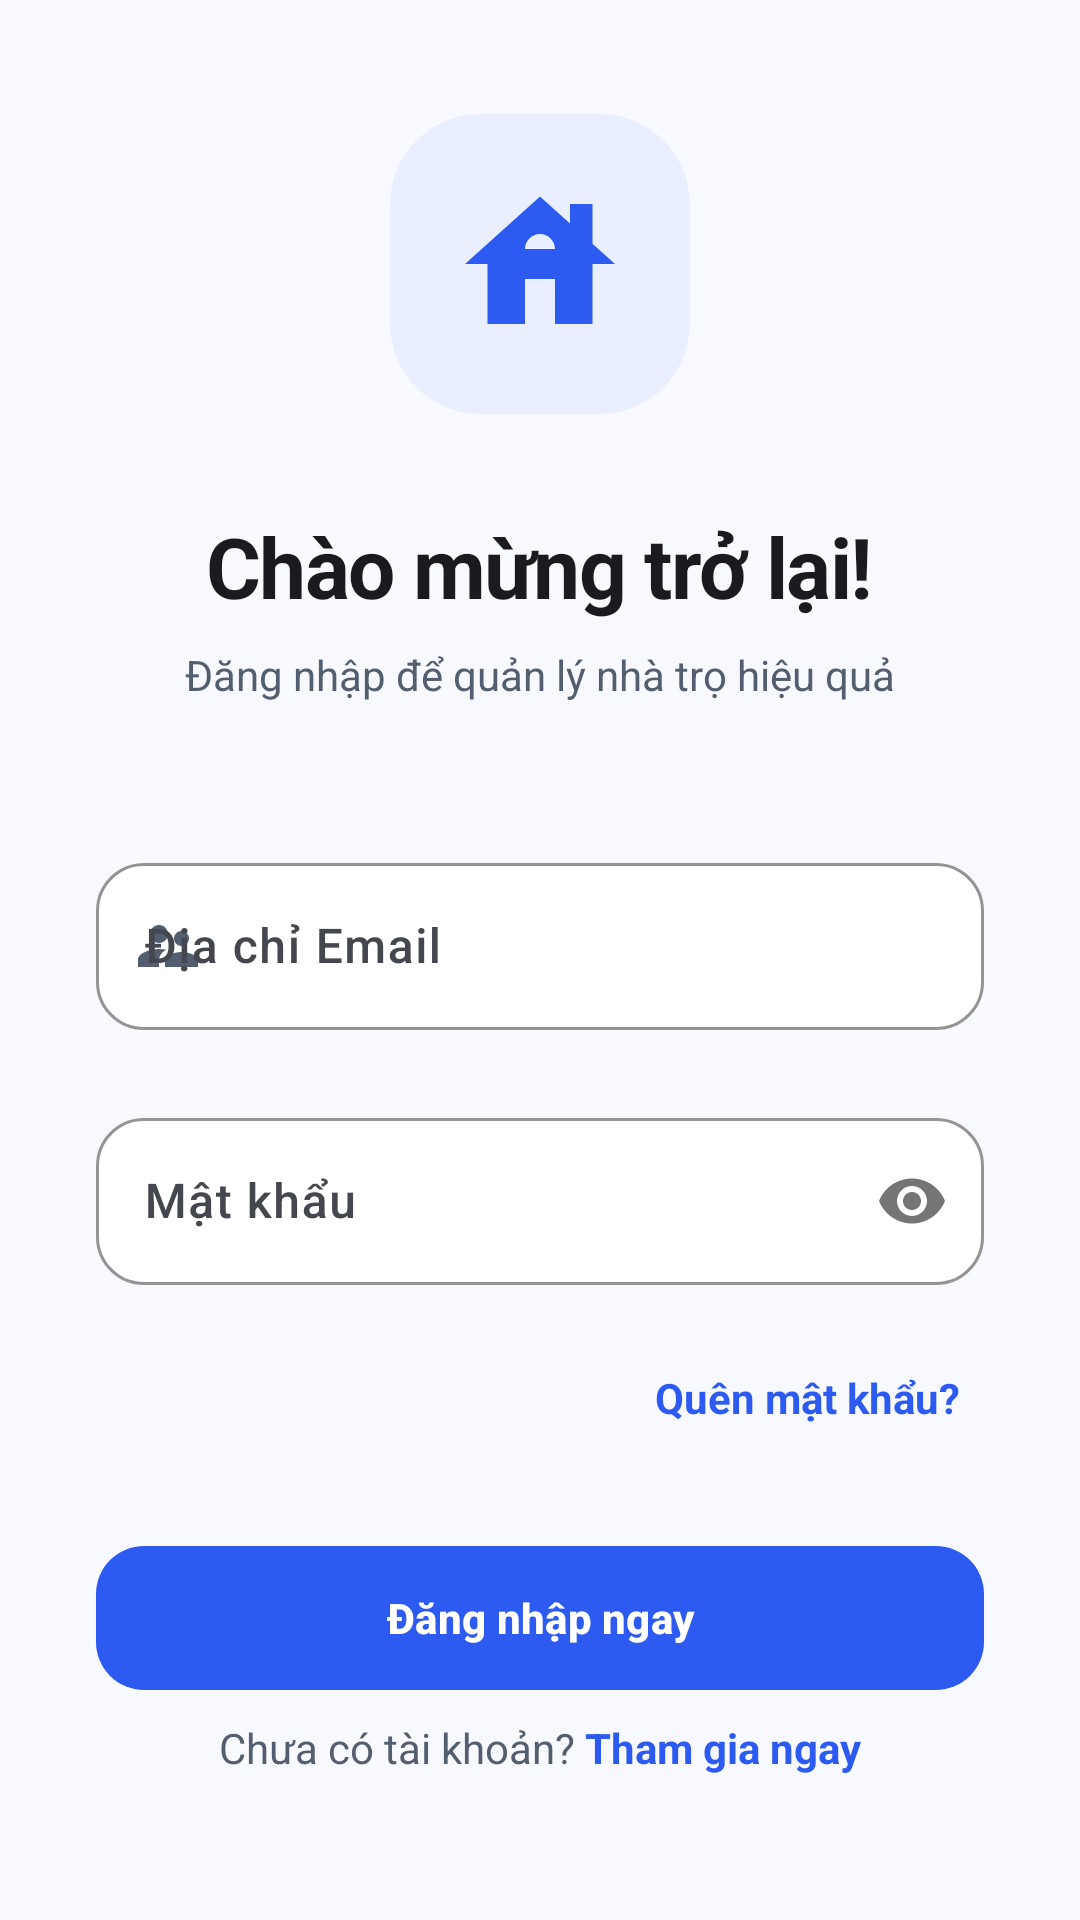

Screen size 1080x1920. Icon name, then its center in pixels as (x,y):
room: (540,260)
